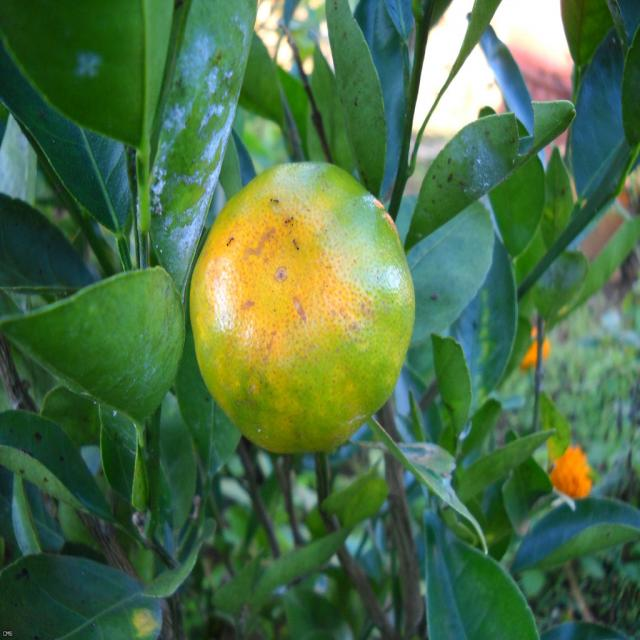Orange: (188, 161, 416, 455)
